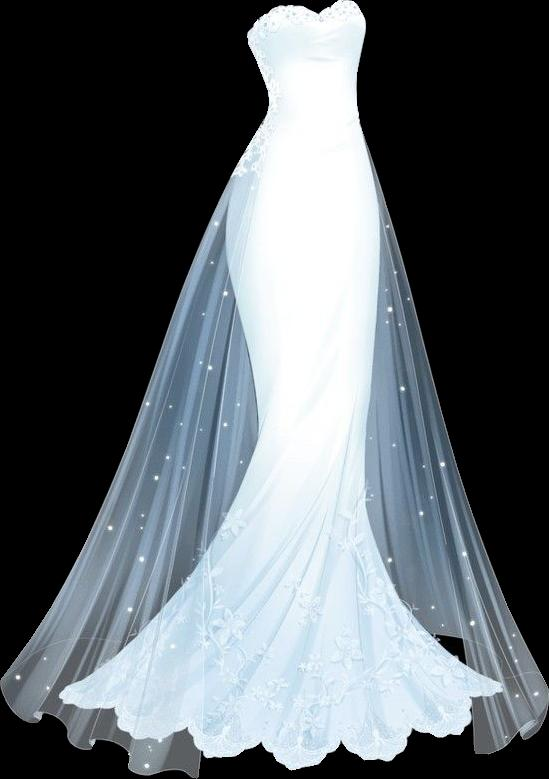Bodice: (247, 0, 365, 112)
Hemline: (0, 111, 290, 778), (348, 112, 548, 755), (200, 720, 475, 772)
Neckline: (244, 0, 369, 39)
Skirt: (1, 113, 548, 778)
